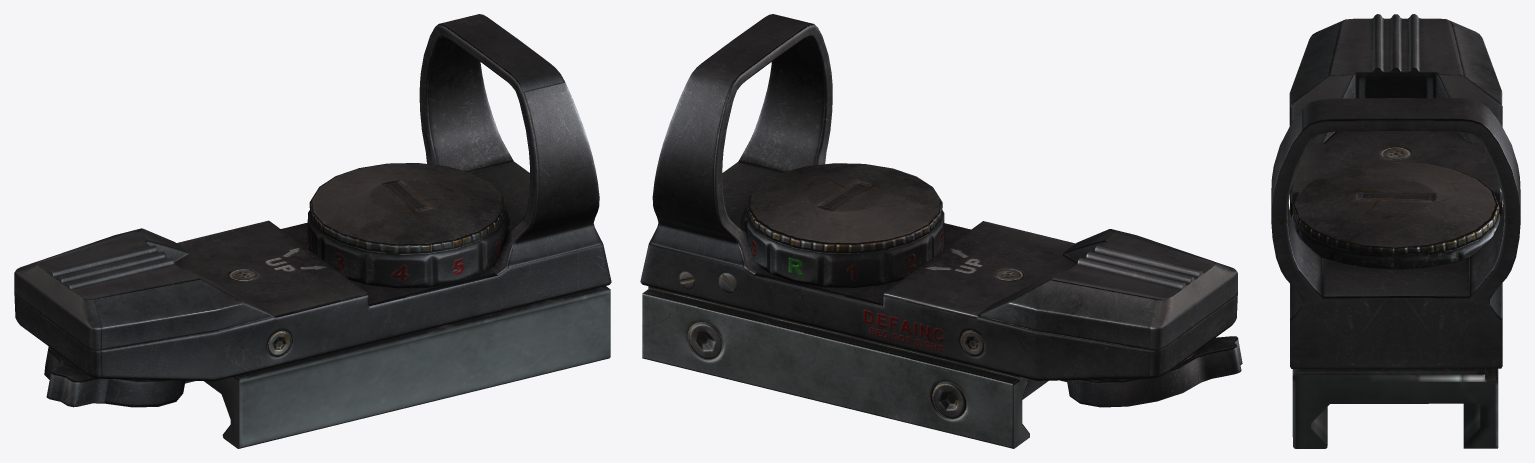
File: Reddot.fbx
3 views of the same model, side by side, from view 1: azimuth 30°, elevation 25°; view 2: azimuth 150°, elevation 25°; view 3: azimuth 270°, elevation 25° (orthographic). The views are drawn at different scales.
Parts seen in each view (by area): view 1: RedDot_hard:RetDot1; view 2: RedDot_hard:RetDot1; view 3: RedDot_hard:RetDot1.
Boxes of the visible parts, x1,y1,x2,y2 form: RedDot_hard:RetDot1: (14, 14, 611, 448); RedDot_hard:RetDot1: (640, 14, 1242, 448); RedDot_hard:RetDot1: (1271, 14, 1520, 448).
Size of the model in its own units: 0.7596 by 0.401 by 0.2936.
